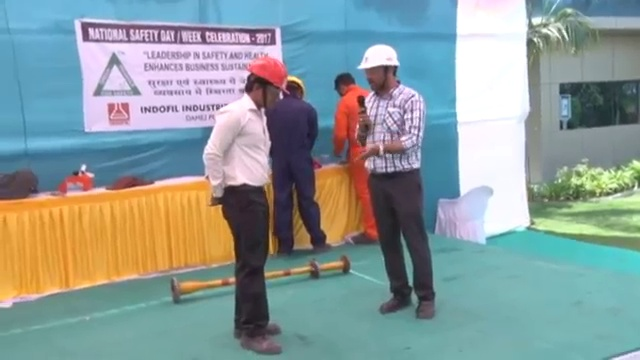helmet: (247, 56, 291, 96), (353, 42, 403, 70), (284, 73, 307, 96)
helmet_off: (332, 70, 357, 98)
helmet_on: (239, 56, 292, 115), (353, 41, 404, 100), (282, 73, 308, 103)
person: (202, 56, 292, 358), (351, 41, 439, 320), (269, 74, 332, 257), (329, 68, 381, 246)
